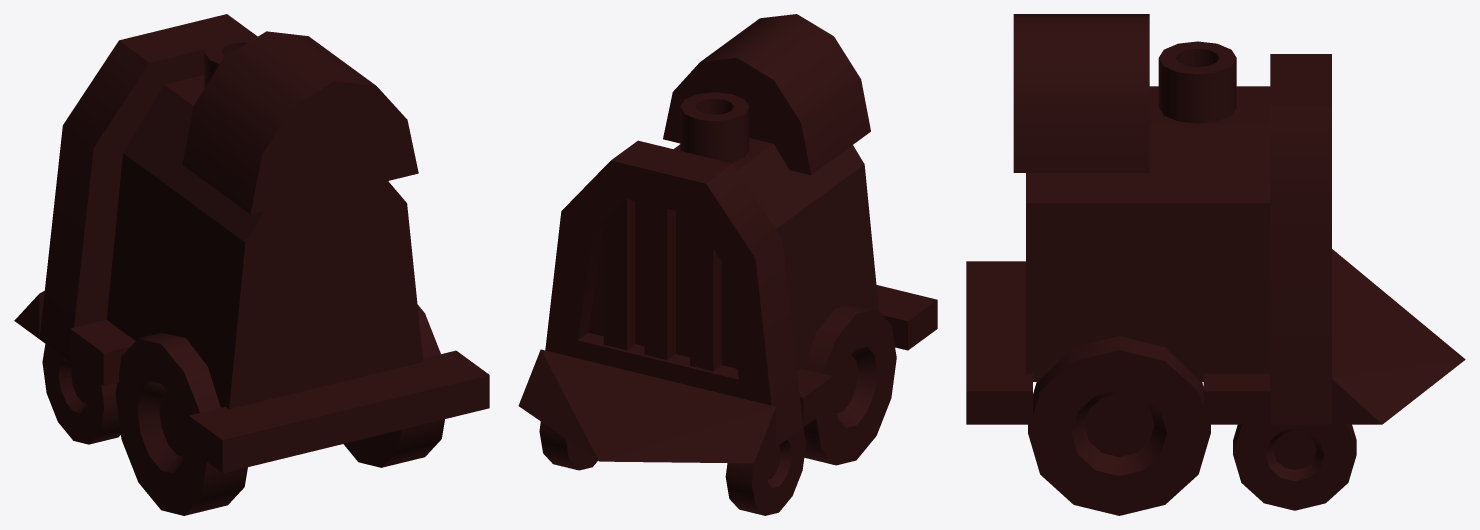
Rendered from TrainLocomotive.fbx.
3 views of the same model, side by side, from view 1: azimuth 30°, elevation 25°; view 2: azimuth 150°, elevation 25°; view 3: azimuth 270°, elevation 25° (orthographic). The views are drawn at different scales.
Visible parts, largest first — view 1: Locomotive; view 2: Locomotive; view 3: Locomotive.
Part boxes in pixels (<box>): Locomotive: <box>14,14,489,515</box>; Locomotive: <box>518,14,937,515</box>; Locomotive: <box>966,14,1465,515</box>.
Size of the model in its own units: 76.25 by 120 by 124.
